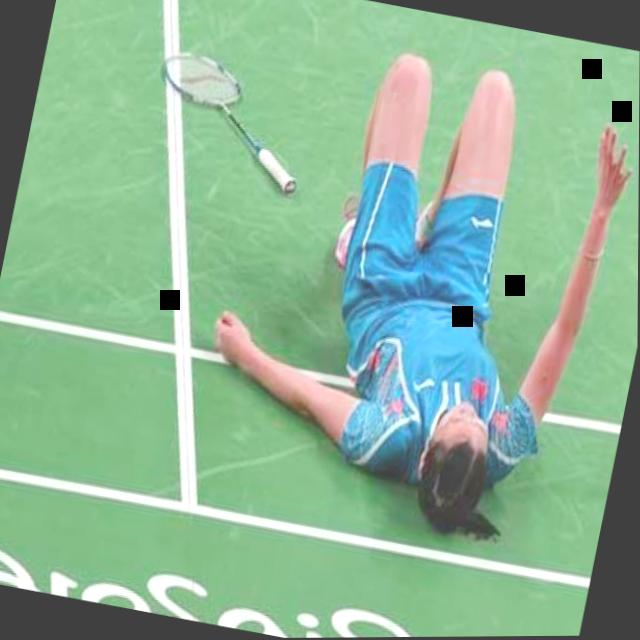Fall-Detected: (170, 0, 640, 552)
